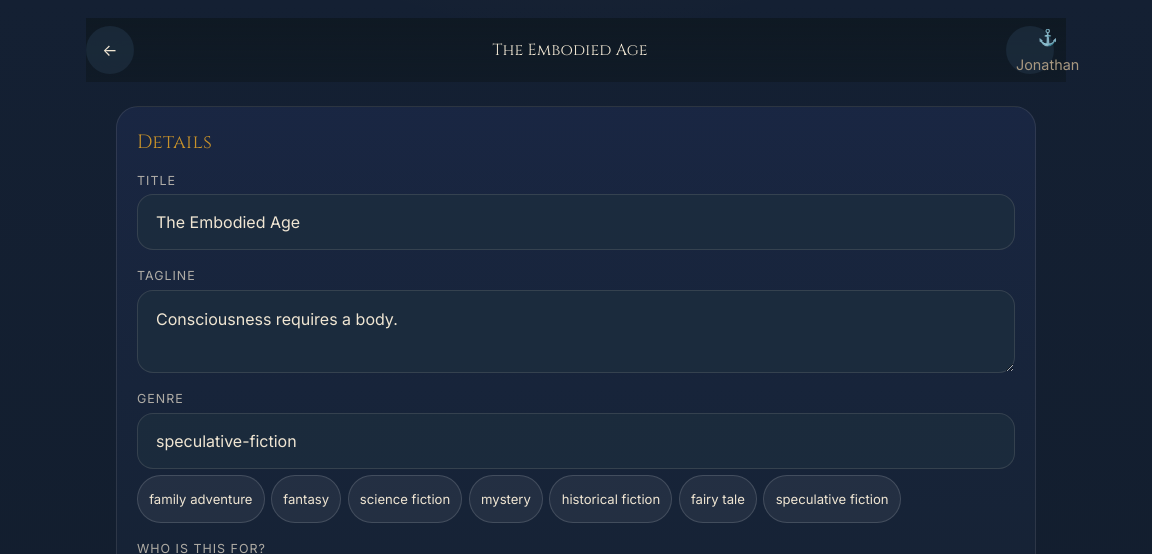
Test: saving › refuses to say Saved when the server accepted it and did not change
Expected: the heading "Details" is shown, top-left (137, 129), bottom-right (212, 155)
Replace the text in the field labelled "Genre" with "tidepool gothic" at {"x": 576, "y": 441}, box top-left (137, 413), bottom-right (1015, 469)
(page scrolled)
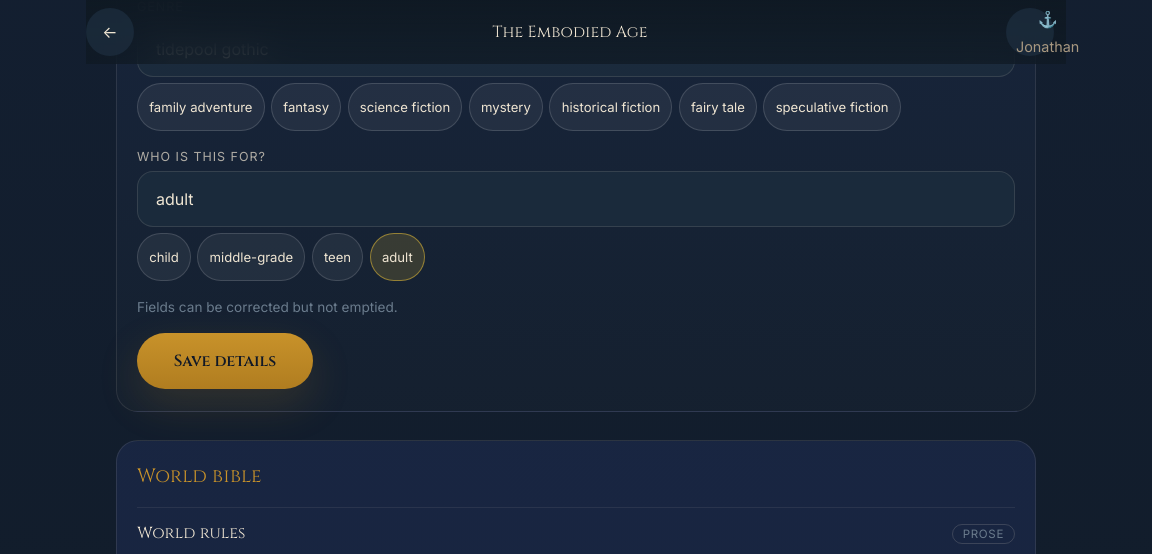
Click the button "Save details" at {"x": 225, "y": 361}, box top-left (137, 333), bottom-right (313, 389)
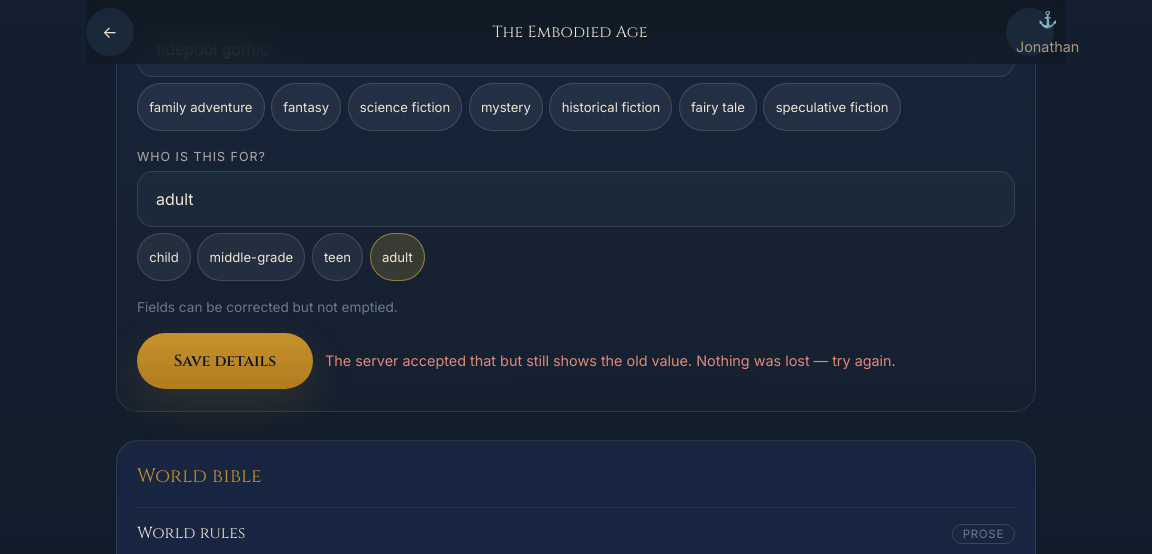
Now the message shows "still shows the old value", box top-left (325, 352), bottom-right (896, 369)
